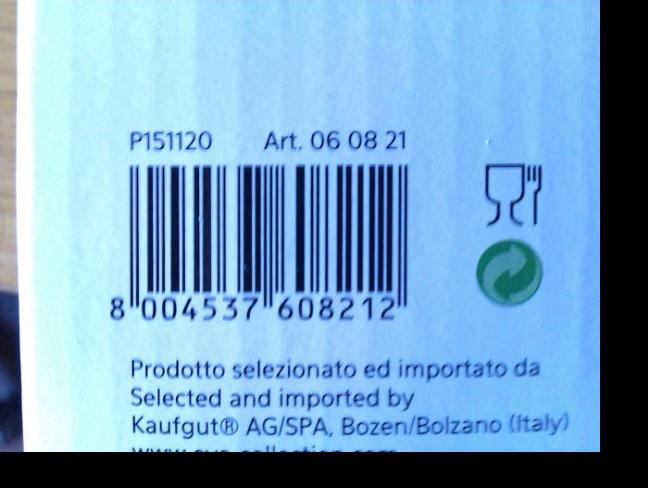Barcode: (99, 156, 427, 336)
